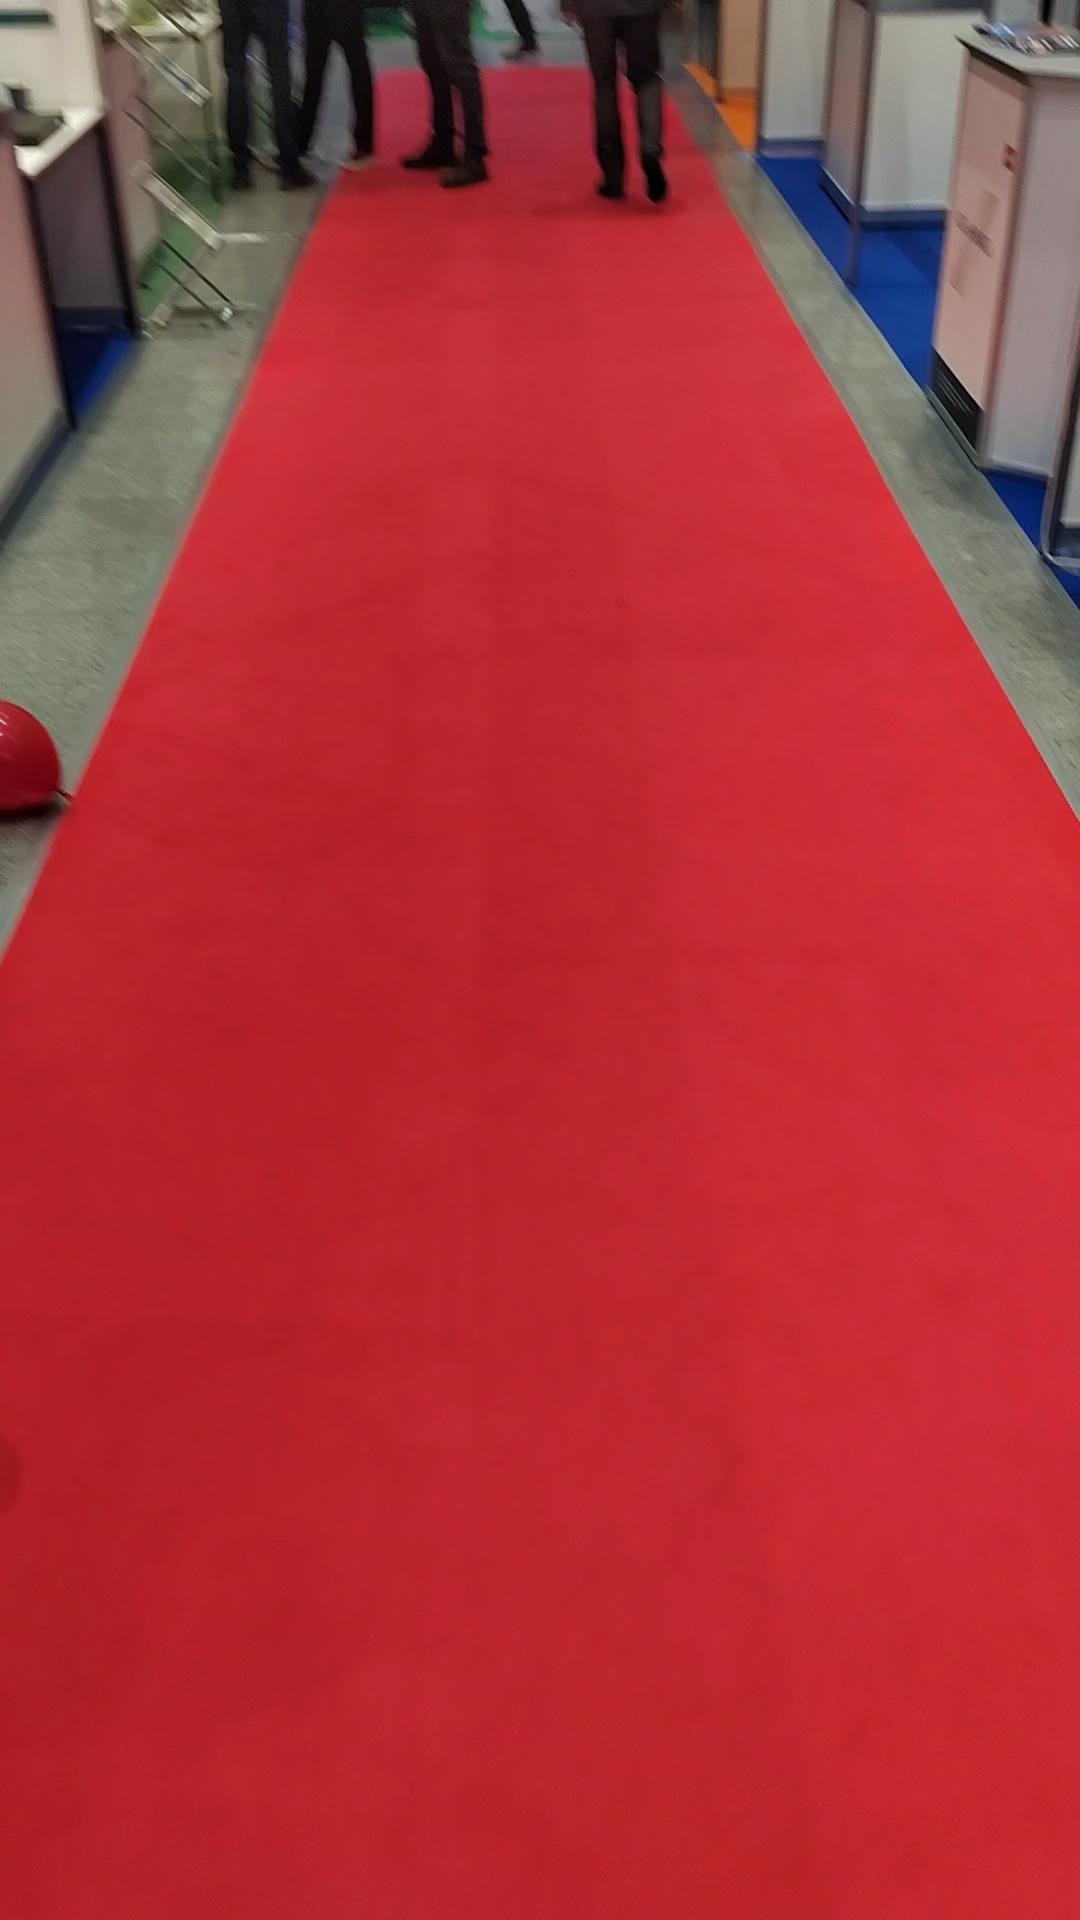red: (0, 686, 90, 827)
